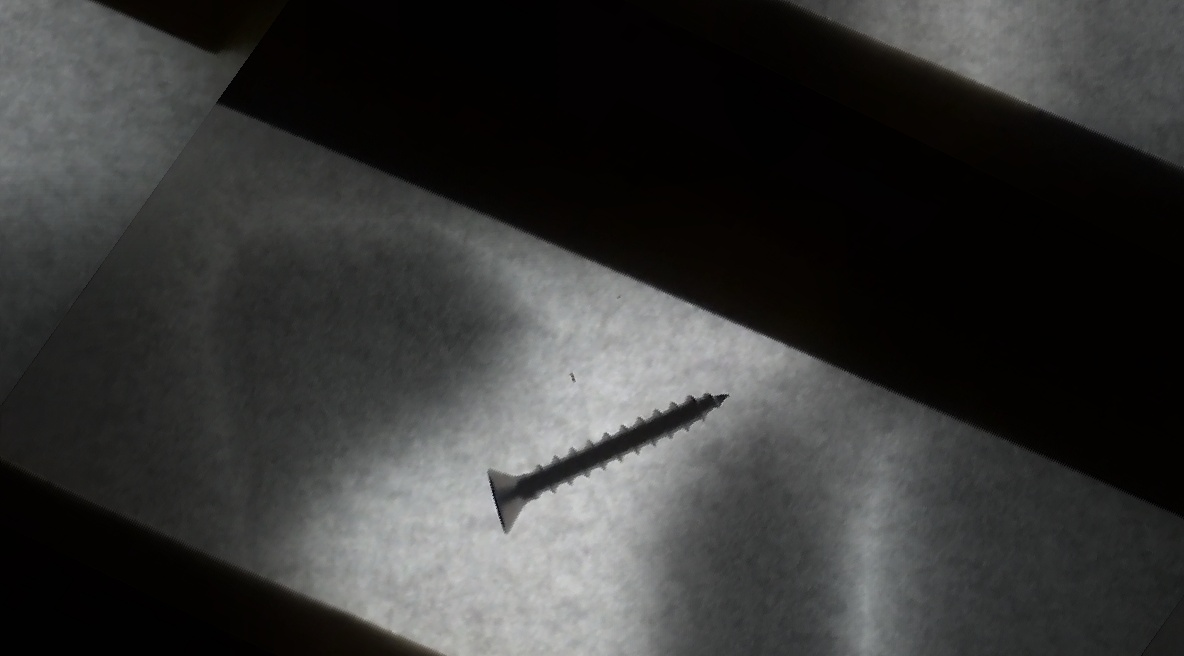S001: (438, 313, 763, 603)
